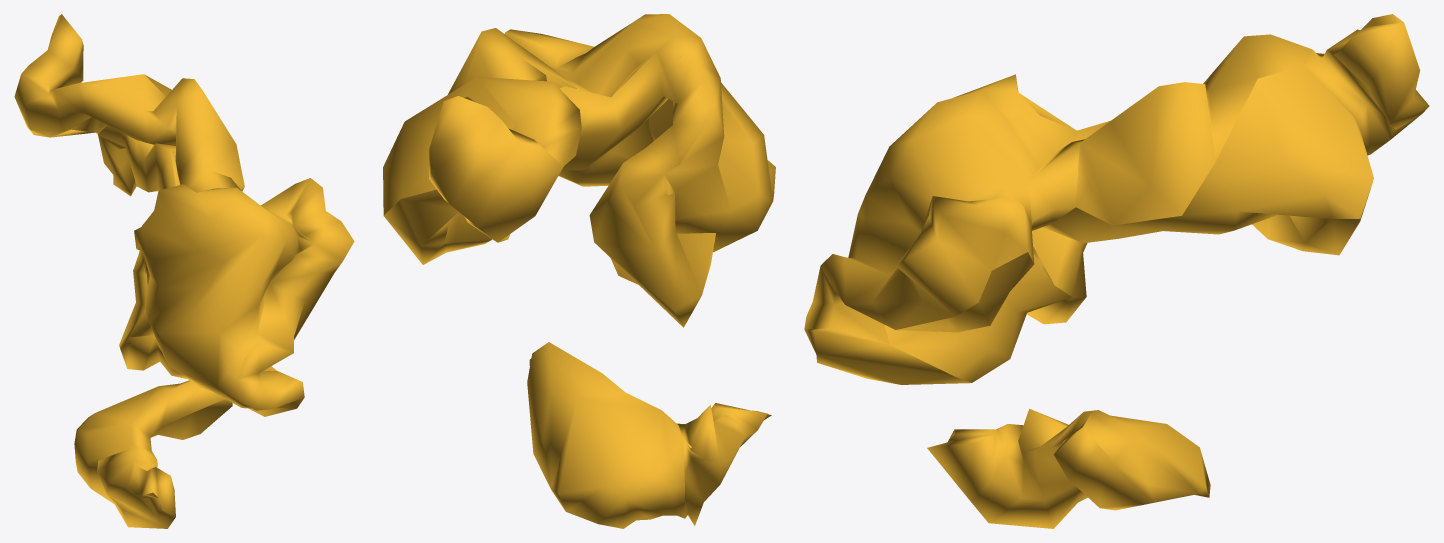
File: nervoso-inferior-frontal-sulcus-r.glb
3 views of the same model, side by side, from view 1: azimuth 30°, elevation 25°; view 2: azimuth 150°, elevation 25°; view 3: azimuth 270°, elevation 25° (orthographic). The views are drawn at different scales.
Parts seen in each view (by area): view 1: Inferior frontal sulcus.r, Orbital part of inferior frontal gyrus.r; view 2: Inferior frontal sulcus.r, Orbital part of inferior frontal gyrus.r; view 3: Inferior frontal sulcus.r, Orbital part of inferior frontal gyrus.r.
Part boxes in pixels (x1,y1,x2,y2): Inferior frontal sulcus.r: [14, 14, 354, 416]; Orbital part of inferior frontal gyrus.r: [74, 380, 232, 528]; Inferior frontal sulcus.r: [383, 14, 775, 327]; Orbital part of inferior frontal gyrus.r: [527, 342, 771, 528]; Inferior frontal sulcus.r: [804, 14, 1429, 384]; Orbital part of inferior frontal gyrus.r: [927, 408, 1210, 528].
Size of the model in its own units: 0.0257 by 0.0496 by 0.0509.
